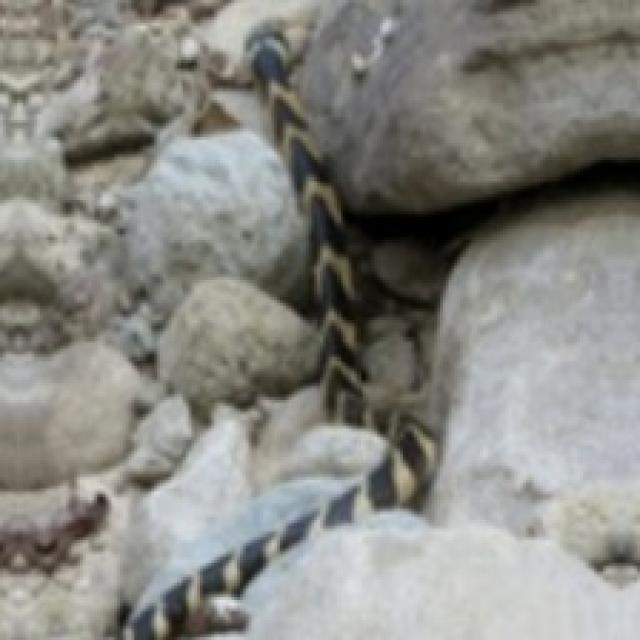king cobra: (123, 26, 477, 637)
